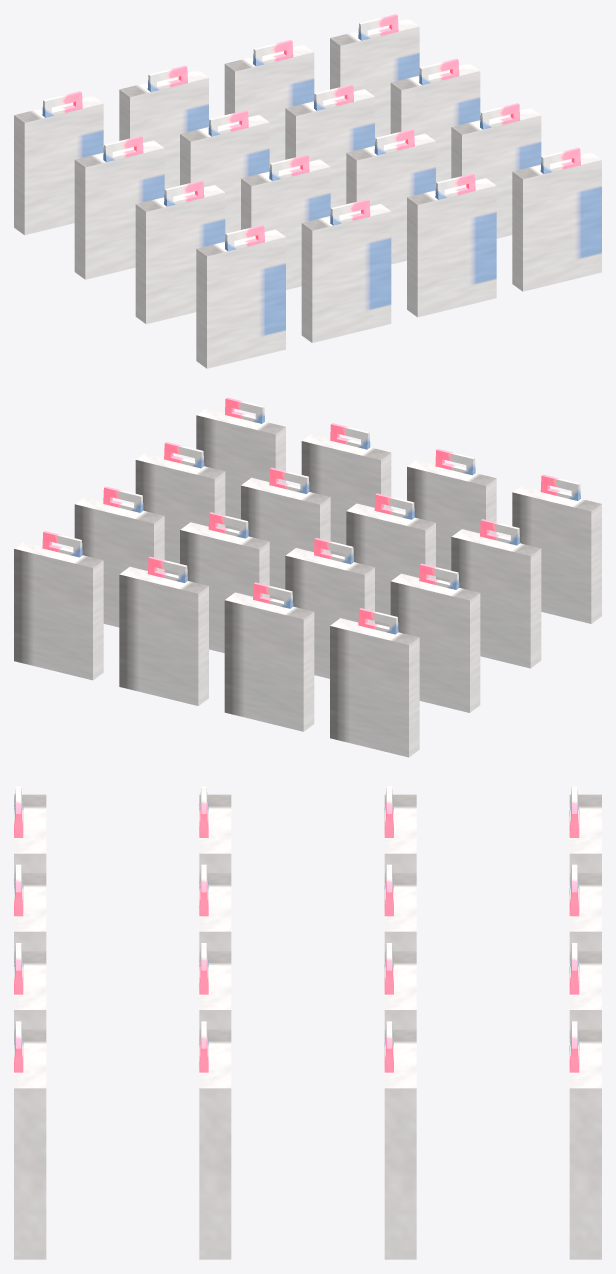
Rendered from ElectronicBlue_Item.fbx.
The picture shows the model from 3 angles, top to bottom: view 1: azimuth 30°, elevation 25°; view 2: azimuth 150°, elevation 25°; view 3: azimuth 270°, elevation 25°; orthographic projection. The views are drawn at different scales.
Visible parts, largest first — view 1: electronicBlue_item4; view 2: electronicBlue_item4; view 3: electronicBlue_item4.
Boxes of the visible parts, x1,y1,x2,y2 form: electronicBlue_item4: (14, 14, 601, 368); electronicBlue_item4: (14, 397, 601, 757); electronicBlue_item4: (14, 786, 601, 1259).
Size of the model in its own units: 75.03 by 23.26 by 63.48.
